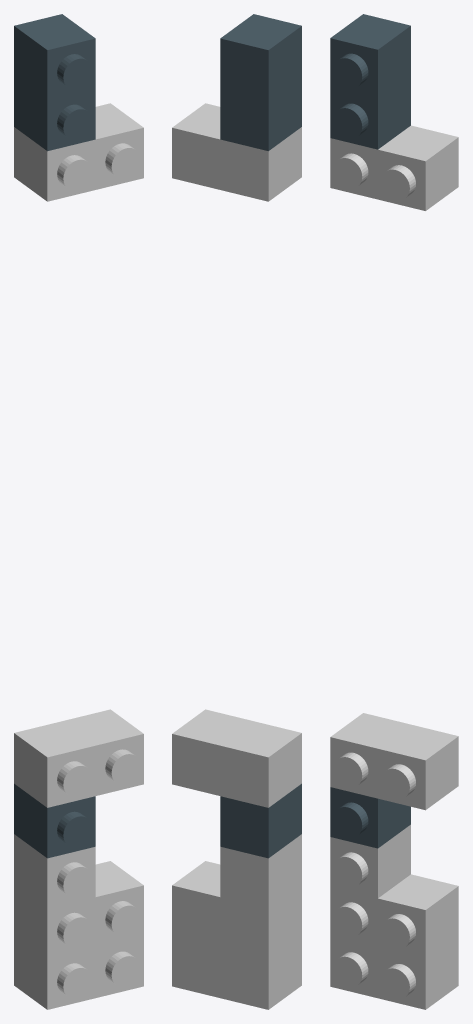
File: current.glb
3 renders of one model, left to right at view 1: azimuth 30°, elevation 25°; view 2: azimuth 150°, elevation 25°; view 3: azimuth 330°, elevation 25°, orthographic.
Visible parts, largest first — view 1: world; view 2: world; view 3: world.
Part boxes in pixels (<box>): world: <box>14,14,143,1009</box>; world: <box>172,14,301,1009</box>; world: <box>330,14,458,1009</box>.
Bounding box in the file's own units: 16 × 152 × 11.4.
